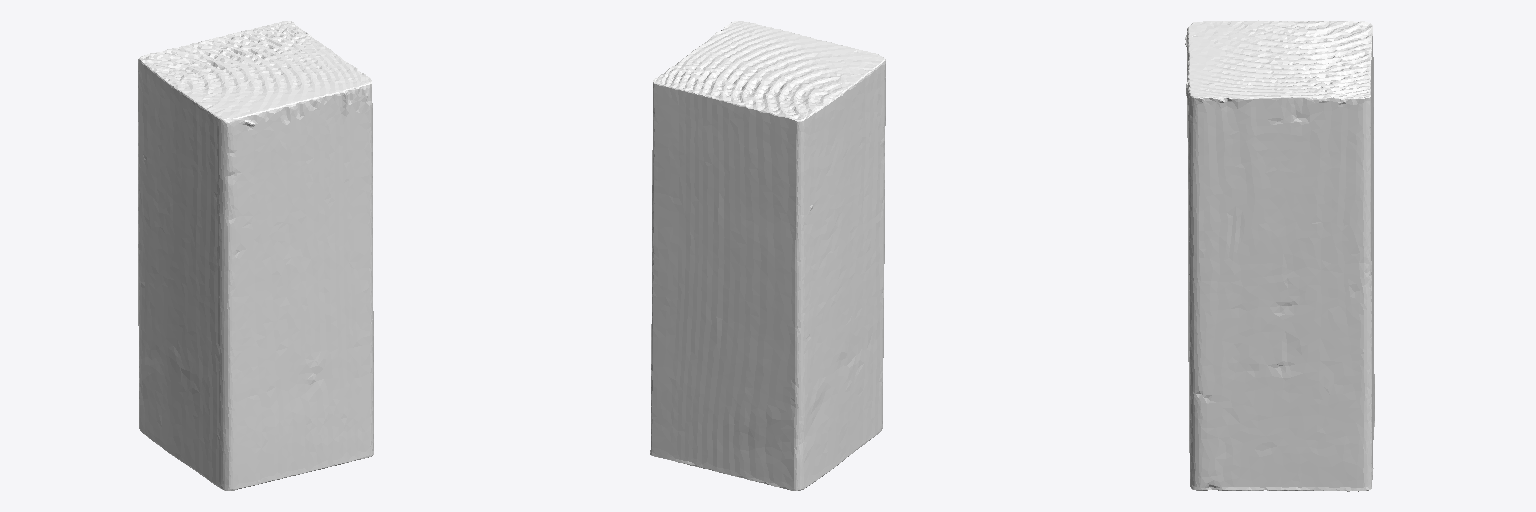
The robot description file, URDF, robot "strawberry":
<robot name="strawberry">
	<link name="base_link">
		<visual>
			<origin xyz="0.0014938727773305587 -0.015432679933728788 -0.02111450326881559" rpy="0.0 0.0 0.0" />
			<geometry>
				<mesh filename="012_strawberry/google_16k/textured.obj" scale="1 1 1" />
			</geometry>
			<material name="texture">
				<color rgba="1.0 1.0 1.0 1.0" />
			</material>
		</visual>
		<collision>
			<origin xyz="0.0014938727773305587 -0.015432679933728788 -0.02111450326881559" rpy="0.0 0.0 0.0" />
			<geometry>
				<mesh filename="012_strawberry/google_16k/textured_vhacd.obj" scale="1 1 1" />
			</geometry>
		</collision>
		<inertial>
			<mass value="0.018" />
			<inertia ixx="1e-3" ixy="0.0" ixz="0.0" iyy="1e-3" iyz="0.0" izz="1e-3" />
		</inertial>
	</link>
</robot>

--- Facts derived from the render (not from the file) ---
Views: 3 orthographic renders of the robot side by side, from view 1: azimuth 30°, elevation 25°; view 2: azimuth 150°, elevation 25°; view 3: azimuth 270°, elevation 25°.
Model strawberry with 1 links and 0 joints (none), rooted at base_link, posed all joints at 0.
Visible links, largest first — view 1: base_link; view 2: base_link; view 3: base_link.
Boxes of the visible links, bbox=[...] form: base_link: bbox=[138, 21, 373, 490]; base_link: bbox=[650, 21, 885, 490]; base_link: bbox=[1185, 20, 1374, 491].
Size in the robot's own frame: 0.0906 by 0.0899 by 0.206 metres.
1 mesh visuals loaded from 1 distinct referenced files (1 OBJ).